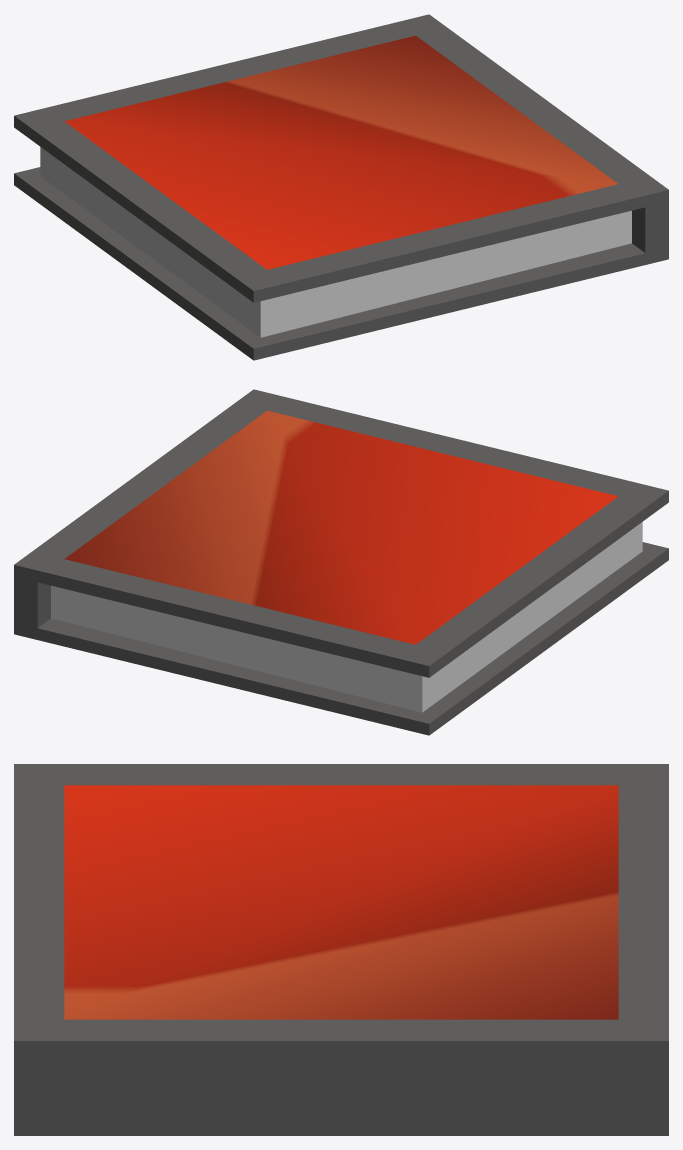
File: FurnAcc_Book.fbx
The picture shows the model from 3 angles, top to bottom: view 1: azimuth 30°, elevation 25°; view 2: azimuth 150°, elevation 25°; view 3: azimuth 270°, elevation 25°; orthographic projection. The views are drawn at different scales.
Parts seen in each view (by area): view 1: FurnAcc_Book; view 2: FurnAcc_Book; view 3: FurnAcc_Book.
Part boxes in pixels (<box>): FurnAcc_Book: <box>14,14,668,360</box>; FurnAcc_Book: <box>14,389,668,735</box>; FurnAcc_Book: <box>14,764,668,1135</box>.
Bounding box in the file's own units: 40 × 6.4 × 40.
